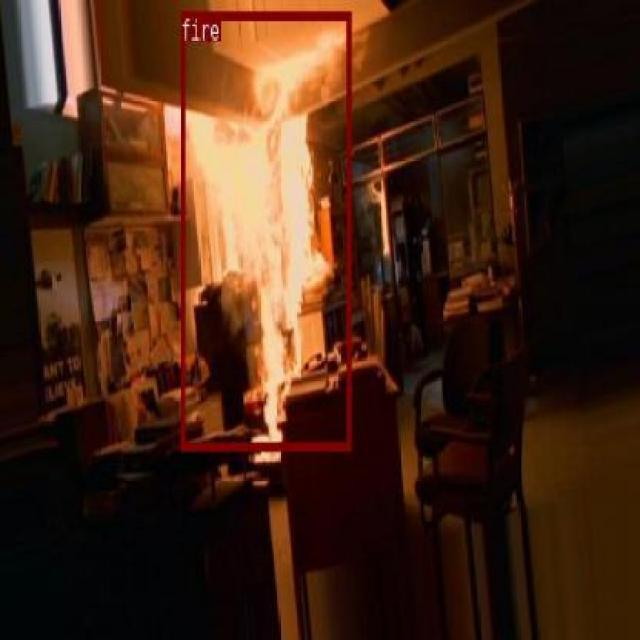Fire: (180, 9, 351, 449)
